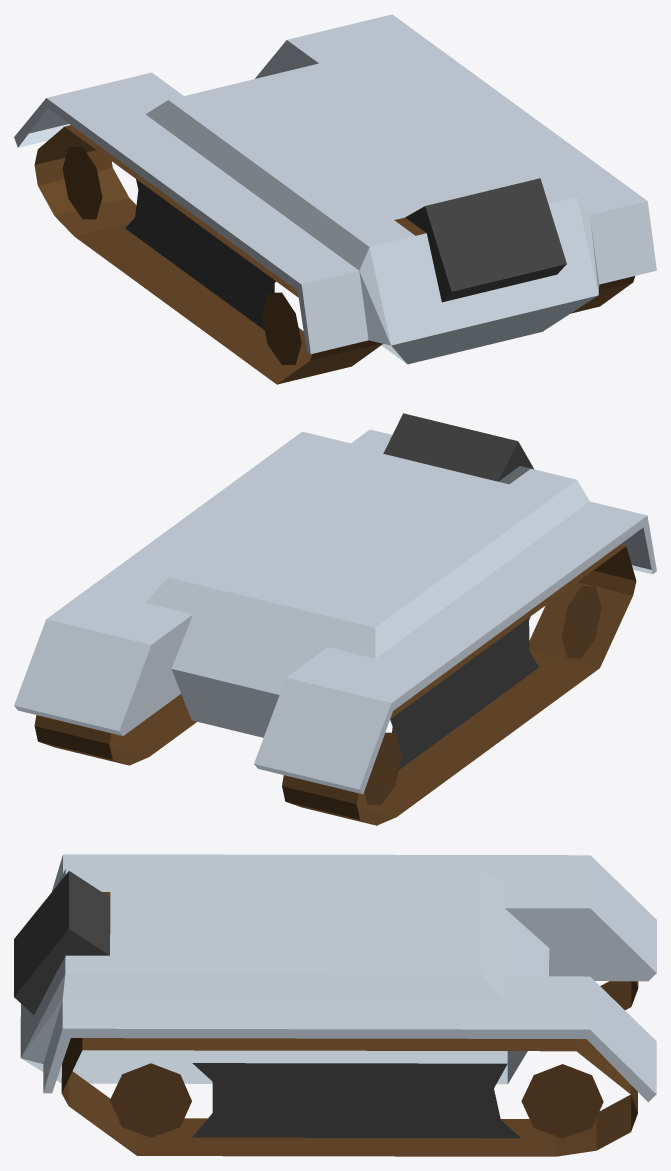
File: asi.FBX
3 renders of one model, top to bottom at view 1: azimuth 30°, elevation 25°; view 2: azimuth 150°, elevation 25°; view 3: azimuth 270°, elevation 25°, orthographic. The views are drawn at different scales.
Parts seen in each view (by area): view 1: VIFS002, VIFS001, VIFS003; view 2: VIFS002, VIFS001, VIFS003; view 3: VIFS002, VIFS001, VIFS003.
Boxes of the visible parts, x1=… form: VIFS002: x1=14, y1=14, x2=656, y2=364; VIFS001: x1=34, y1=125, x2=635, y2=384; VIFS003: x1=125, y1=178, x2=566, y2=330; VIFS002: x1=14, y1=429, x2=656, y2=794; VIFS001: x1=34, y1=544, x2=636, y2=825; VIFS003: x1=383, y1=413, x2=538, y2=769; VIFS002: x1=20, y1=854, x2=656, y2=1102; VIFS001: x1=61, y1=892, x2=638, y2=1156; VIFS003: x1=14, y1=871, x2=520, y2=1138.
Size of the model in its own units: 1.21 by 0.587 by 1.89.
